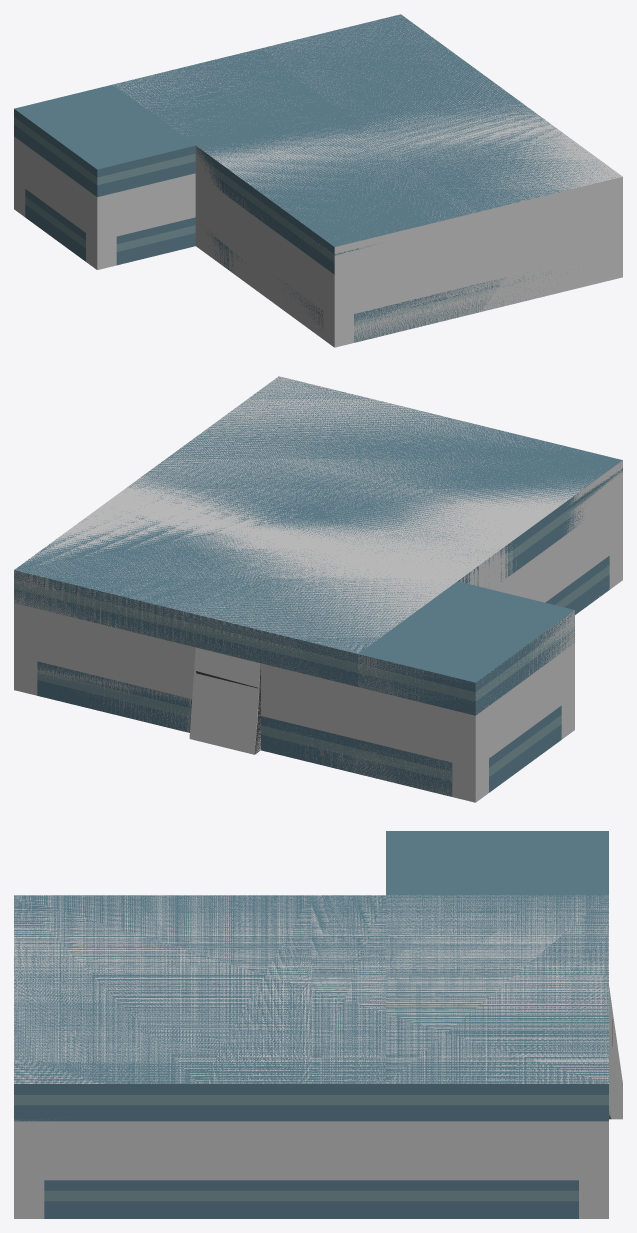
File: SM_Building_14_Base.fbx
The picture shows the model from 3 angles, top to bottom: view 1: azimuth 30°, elevation 25°; view 2: azimuth 150°, elevation 25°; view 3: azimuth 270°, elevation 25°; orthographic projection. The views are drawn at different scales.
Parts seen in each view (by area): view 1: SM_Building_14_Base, SM_Building_14_Base_ConvexHulls; view 2: SM_Building_14_Base_ConvexHulls, SM_Building_14_Base; view 3: SM_Building_14_Base, SM_Building_14_Base_ConvexHulls.
Part boxes in pixels (left/top/right/bottom): SM_Building_14_Base: left=14, top=14, right=615, bottom=342; SM_Building_14_Base_ConvexHulls: left=14, top=15, right=622, bottom=347; SM_Building_14_Base_ConvexHulls: left=14, top=376, right=622, bottom=802; SM_Building_14_Base: left=14, top=376, right=622, bottom=796; SM_Building_14_Base: left=14, top=831, right=612, bottom=1218; SM_Building_14_Base_ConvexHulls: left=14, top=895, right=622, bottom=1218.
Size of the model in its own units: 1610 by 1637 by 400.
2 materials, 1 textured.
